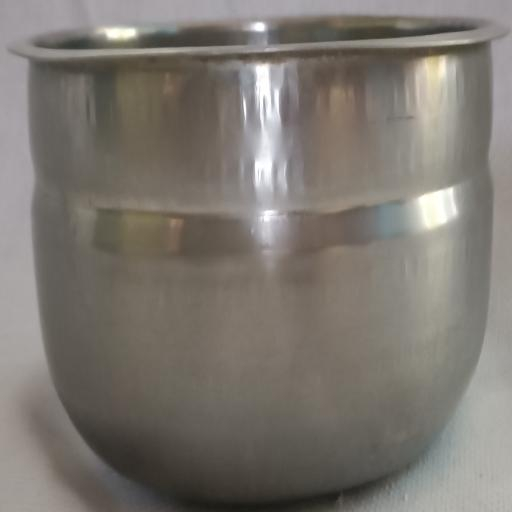vessel: (13, 17, 504, 502)
